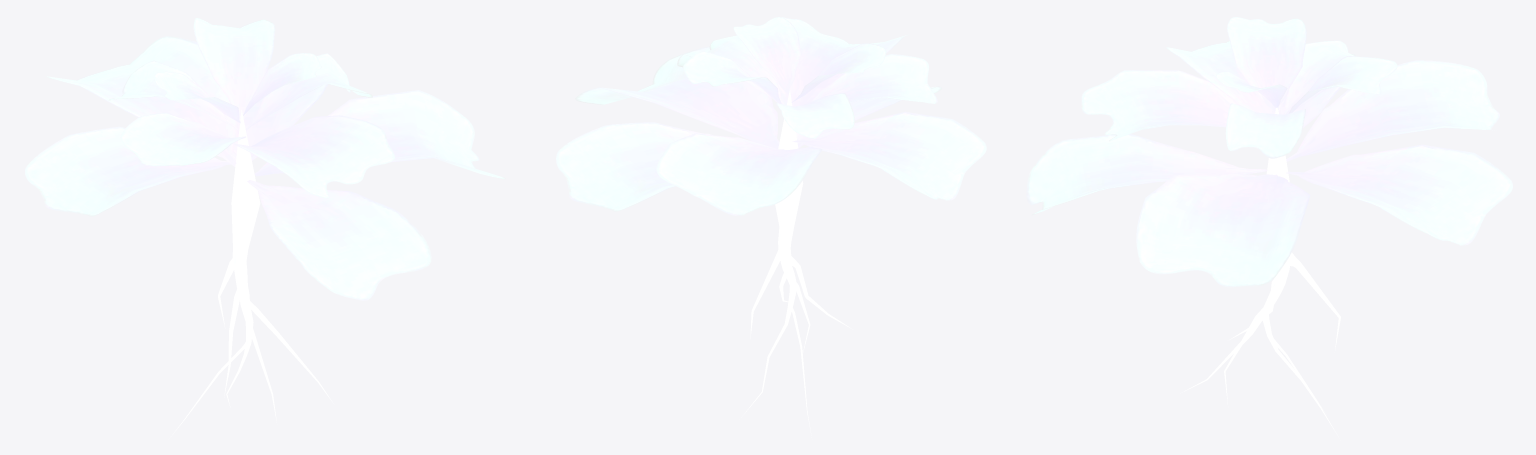
3 views of the same model, side by side, from view 1: azimuth 30°, elevation 25°; view 2: azimuth 150°, elevation 25°; view 3: azimuth 270°, elevation 25° (orthographic). The views are drawn at different scales.
Parts seen in each view (by area): view 1: SM_FH_Water_Lettuce_01_LOD0; view 2: SM_FH_Water_Lettuce_01_LOD0; view 3: SM_FH_Water_Lettuce_01_LOD0.
Boxes of the visible parts, left/top/right/bottom form: SM_FH_Water_Lettuce_01_LOD0: left=25, top=18, right=505, bottom=436; SM_FH_Water_Lettuce_01_LOD0: left=556, top=17, right=986, bottom=437; SM_FH_Water_Lettuce_01_LOD0: left=1026, top=17, right=1512, bottom=436.
Bounding box in the file's own units: 0.6977 × 0.6037 × 0.7065.
1 material, 1 textured.
